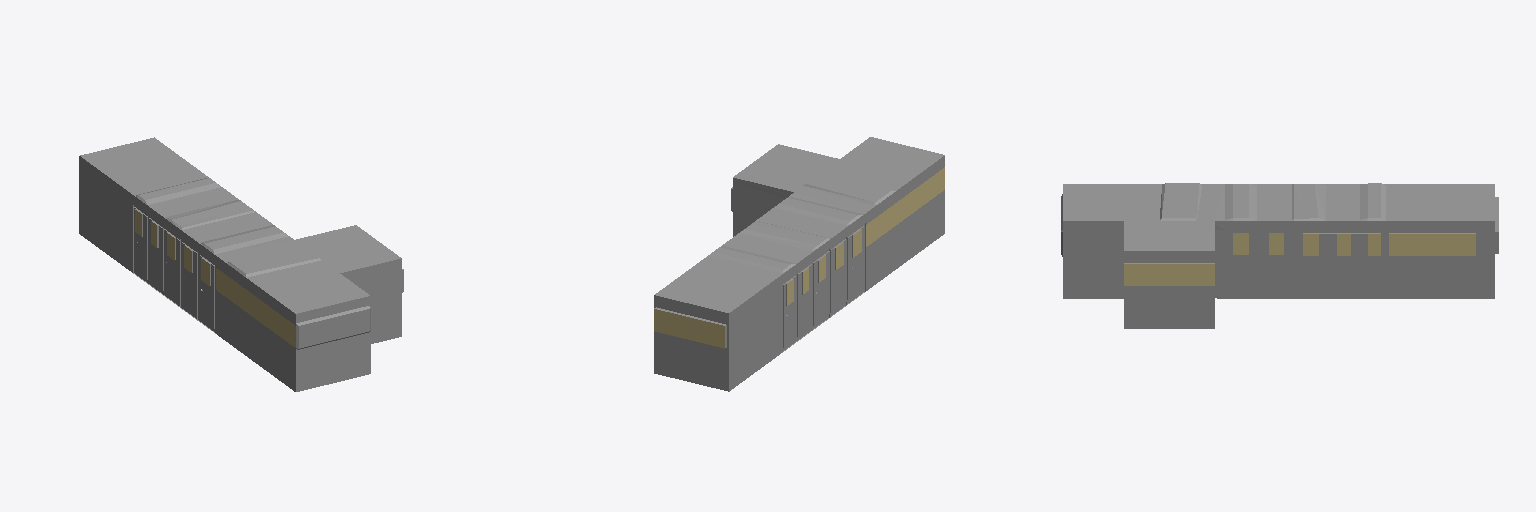
The model's file is DENTENTIONCENTERHALLWAY.obj.
The picture shows the model from 3 angles: view 1: azimuth 30°, elevation 25°; view 2: azimuth 150°, elevation 25°; view 3: azimuth 270°, elevation 25°; orthographic projection.
Parts seen in each view (by area): view 1: Cube; view 2: Cube; view 3: Cube.
Boxes of the visible parts, x1=… form: Cube: x1=79, y1=137, x2=403, y2=391; Cube: x1=654, y1=137, x2=944, y2=391; Cube: x1=1061, y1=183, x2=1498, y2=328.
Bounding box in the file's own units: 11.2 × 6.15 × 30.41.